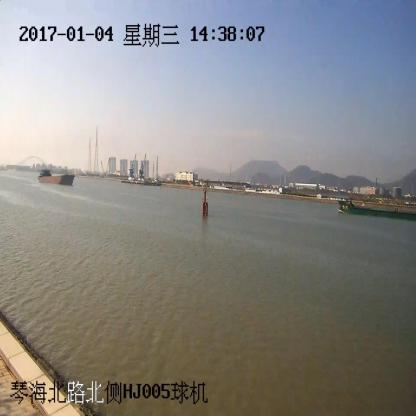Bulk Carrier: (338, 197, 416, 221)
